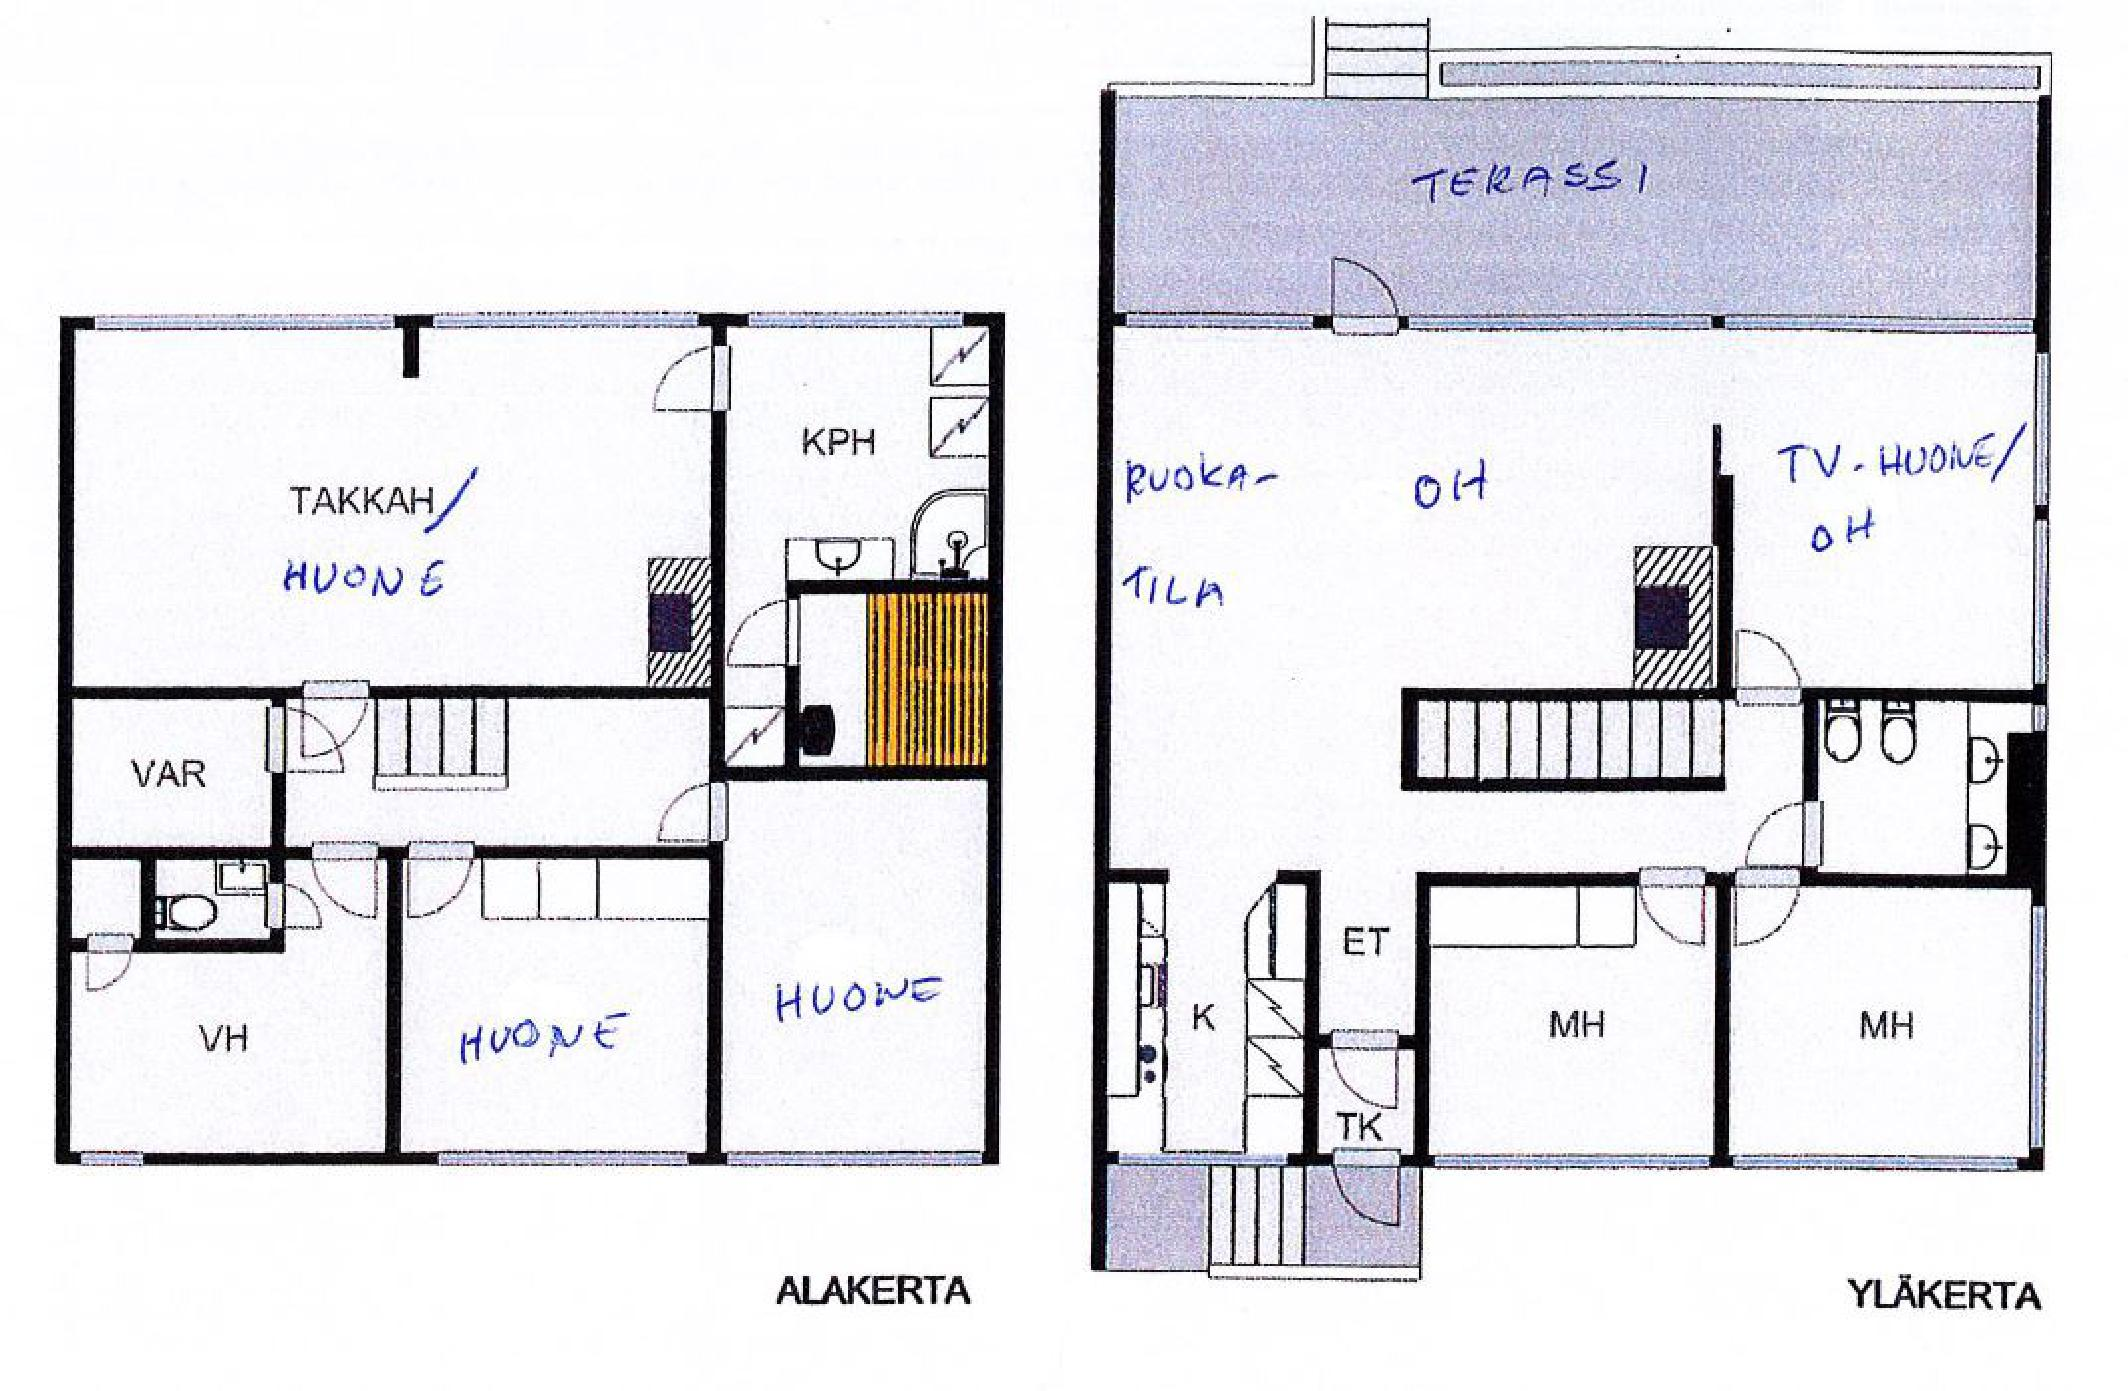door: (318, 832, 382, 949), (1745, 795, 1833, 876), (646, 345, 736, 422), (1319, 1035, 1405, 1113), (258, 709, 348, 782), (1335, 258, 1406, 349), (1638, 866, 1710, 955), (295, 674, 369, 758), (1332, 1147, 1411, 1223), (1734, 869, 1800, 955), (411, 845, 483, 924), (1738, 629, 1800, 719), (723, 605, 802, 671), (658, 793, 748, 845), (269, 872, 323, 930), (88, 941, 130, 995)
window: (1409, 317, 1720, 342), (95, 314, 396, 338), (1437, 1152, 1714, 1177), (428, 1144, 688, 1167), (1732, 1152, 2016, 1172), (435, 310, 692, 332), (1718, 321, 2041, 335), (712, 1150, 983, 1166), (2024, 907, 2041, 1147), (751, 314, 959, 332), (1124, 314, 1316, 332), (2032, 354, 2053, 515), (1111, 1155, 1310, 1172), (2027, 517, 2046, 682), (75, 1140, 146, 1172), (2030, 708, 2050, 727)
zone: (1114, 332, 1794, 866), (70, 335, 712, 682), (1118, 95, 2038, 328), (722, 326, 983, 770), (1718, 332, 2038, 691), (722, 779, 979, 1144), (75, 862, 385, 1152), (405, 857, 705, 1147), (1723, 886, 2032, 1152), (1422, 880, 1714, 1153), (282, 688, 714, 837), (1114, 883, 1302, 1153), (1816, 702, 2019, 862), (809, 588, 986, 768), (1114, 1163, 1414, 1267), (82, 692, 275, 852), (1321, 872, 1414, 1029), (149, 866, 273, 935), (1324, 1054, 1412, 1144), (64, 862, 141, 935)
